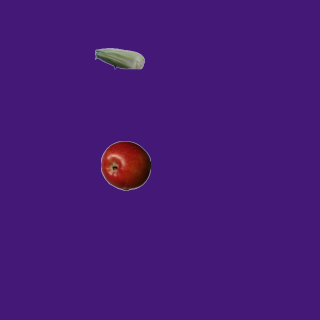Apple Braeburn: (100, 140, 150, 190)
Corn Husk: (94, 33, 144, 83)
